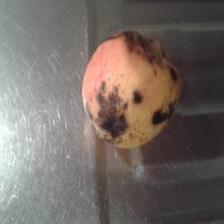Mango Semirotten: (81, 29, 182, 152)
